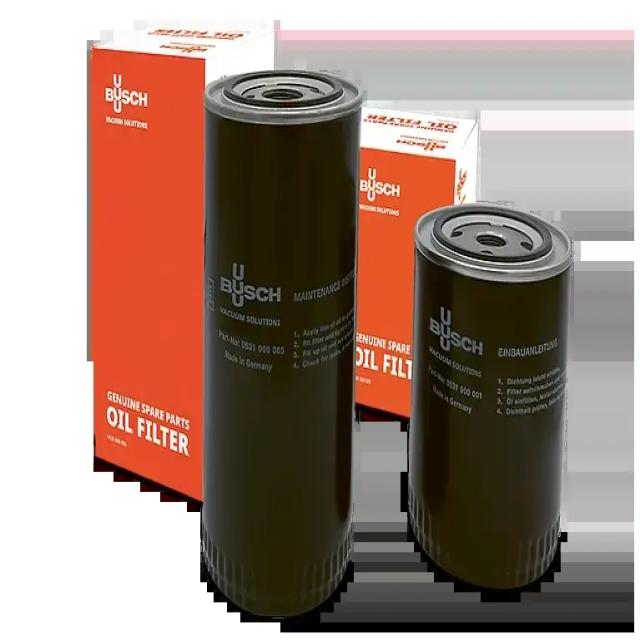oil_filter: (201, 63, 365, 622), (411, 200, 567, 596)
